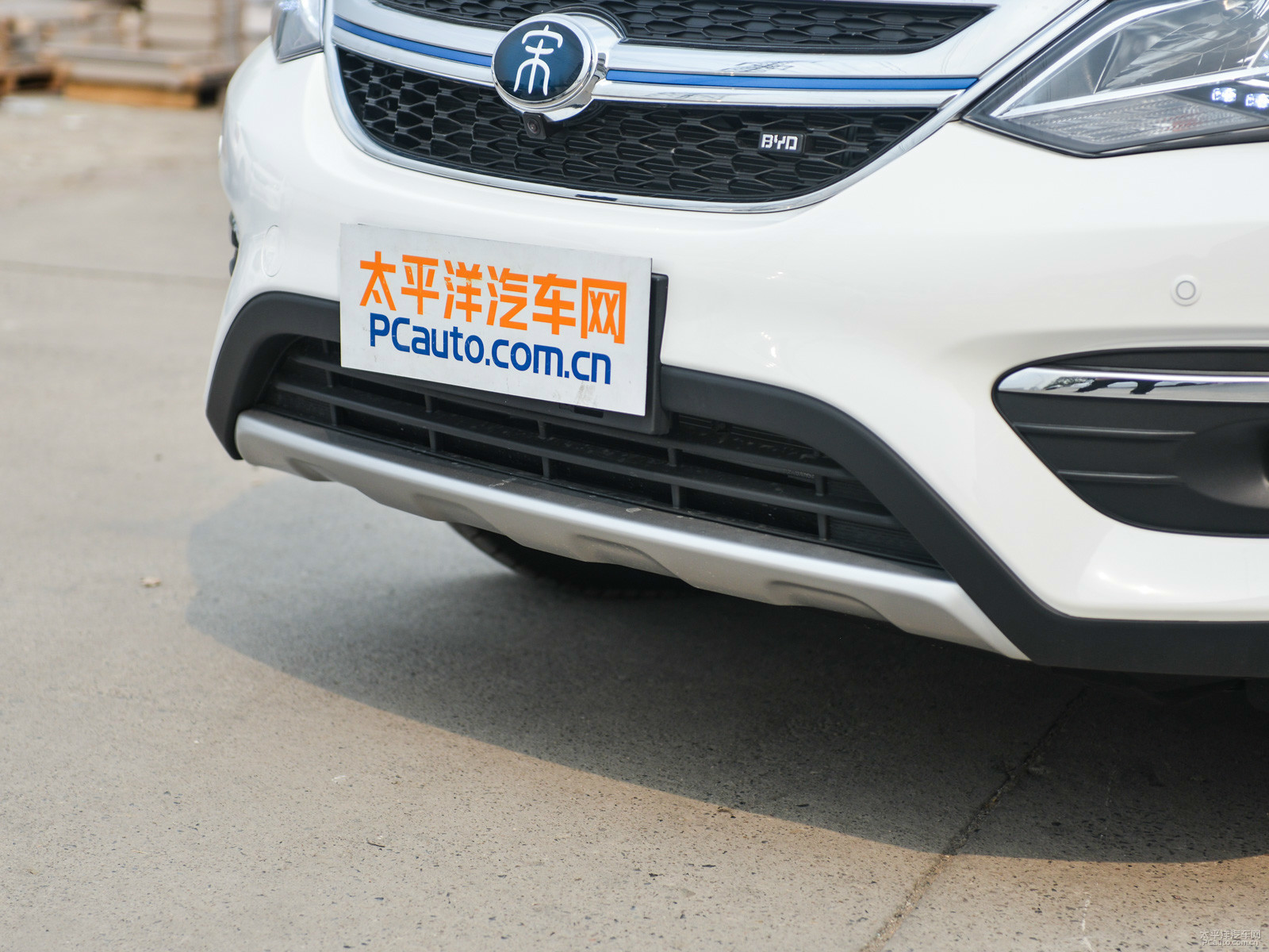BYD Song: (493, 21, 584, 101)
